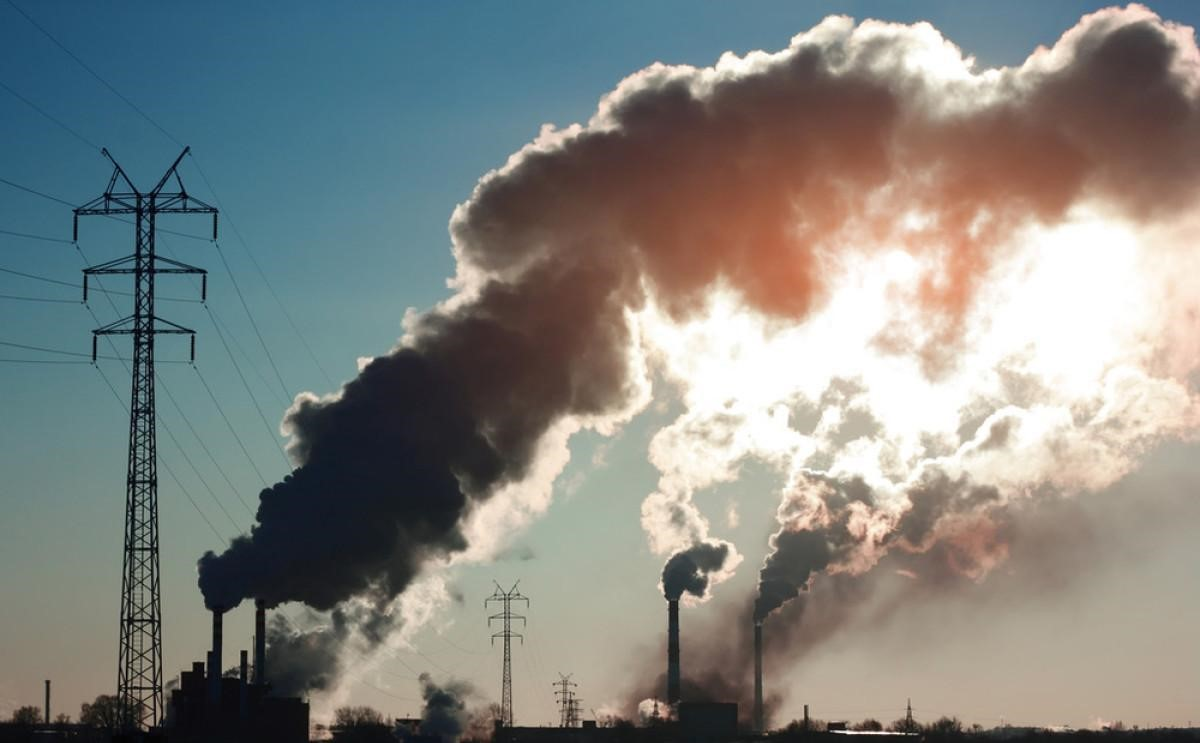工厂排烟: (194, 0, 1199, 614), (253, 0, 1199, 615), (636, 0, 1199, 602), (748, 0, 1199, 626), (606, 572, 844, 732), (249, 579, 447, 710), (413, 656, 501, 743)
